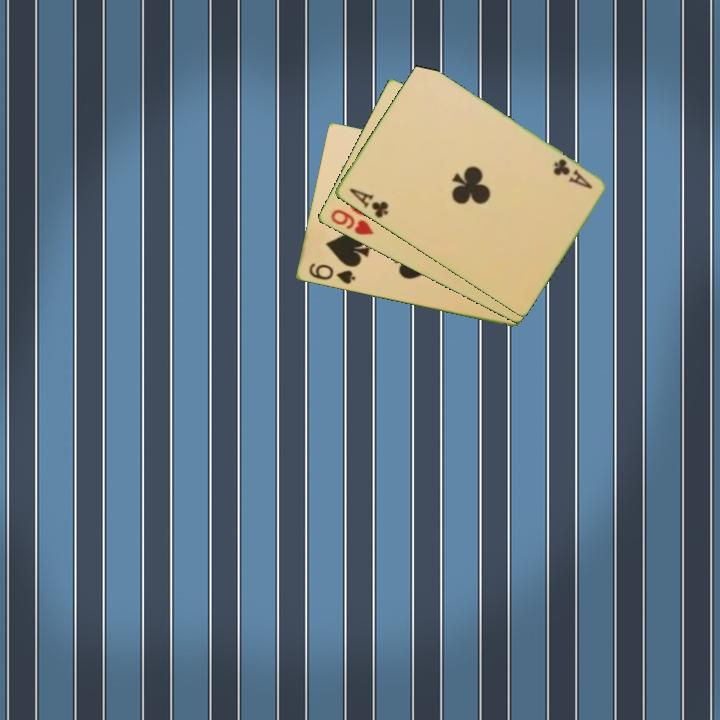6s: (305, 260, 358, 287)
9h: (327, 206, 376, 238)
Ac: (345, 184, 391, 221), (549, 155, 595, 192)
